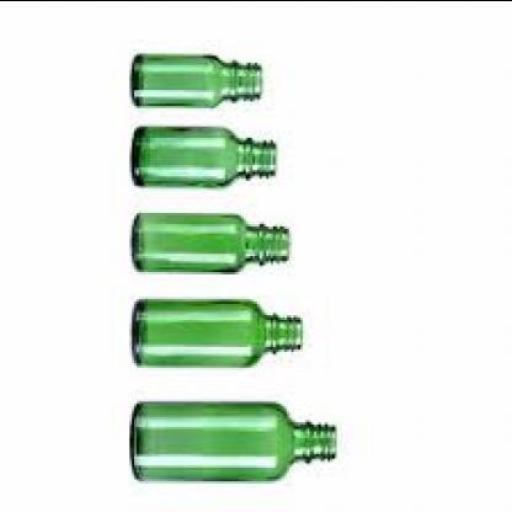glass: (132, 403, 339, 484), (132, 303, 302, 367), (134, 216, 292, 275), (136, 127, 280, 189), (132, 55, 264, 106)
